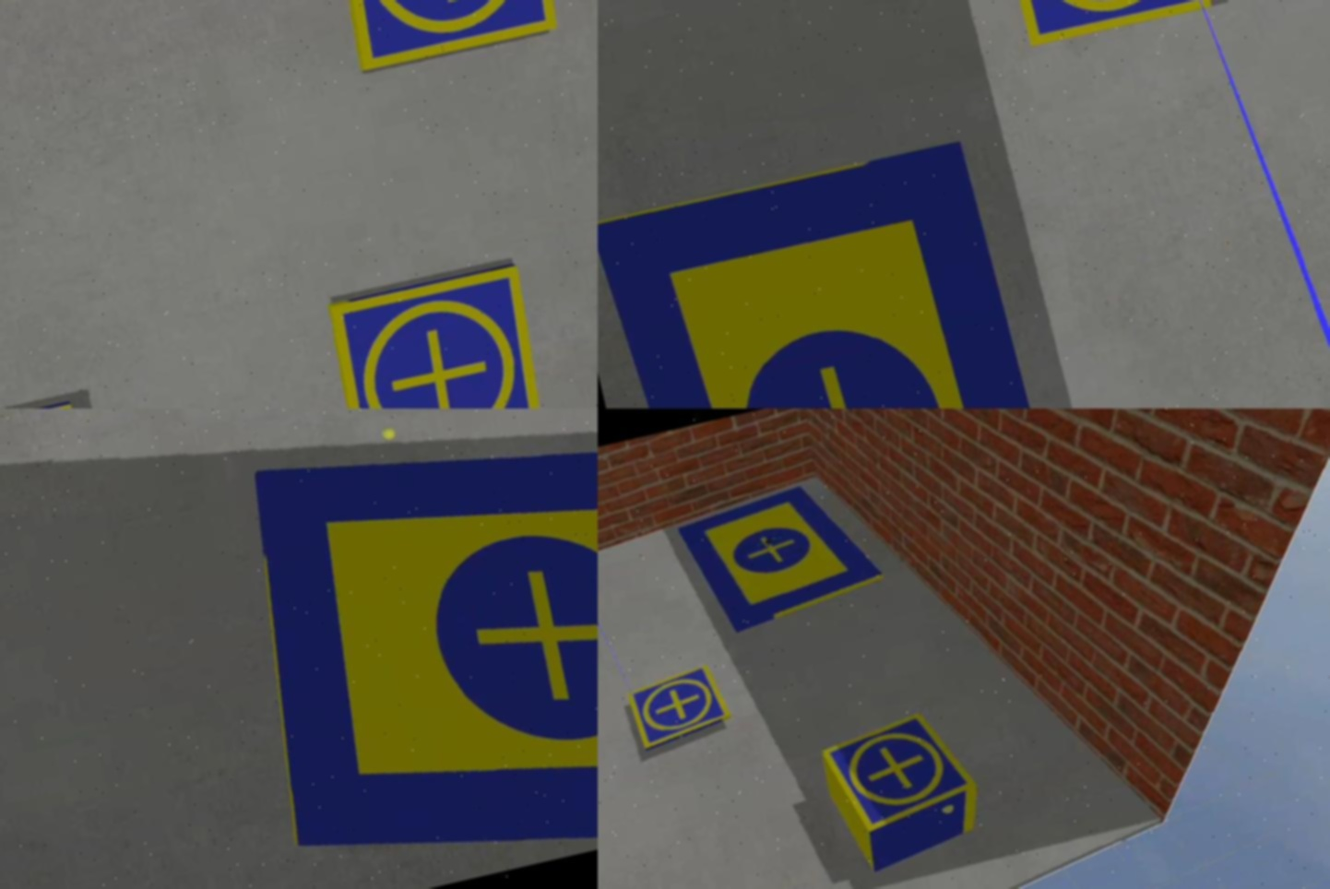large_base: (208, 409, 598, 889), (598, 134, 1046, 409), (678, 472, 891, 641)
small_base: (321, 260, 560, 409), (818, 703, 985, 839), (315, 1, 582, 79), (980, 1, 1223, 54), (622, 668, 733, 757)
